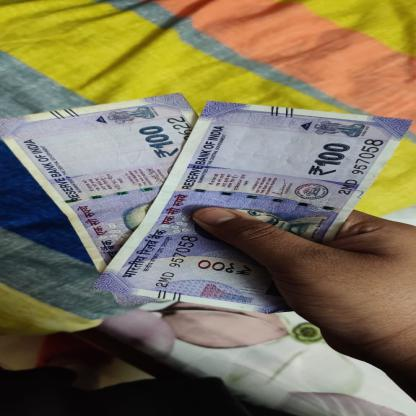New100Front: (91, 100, 414, 314), (0, 92, 200, 308)
